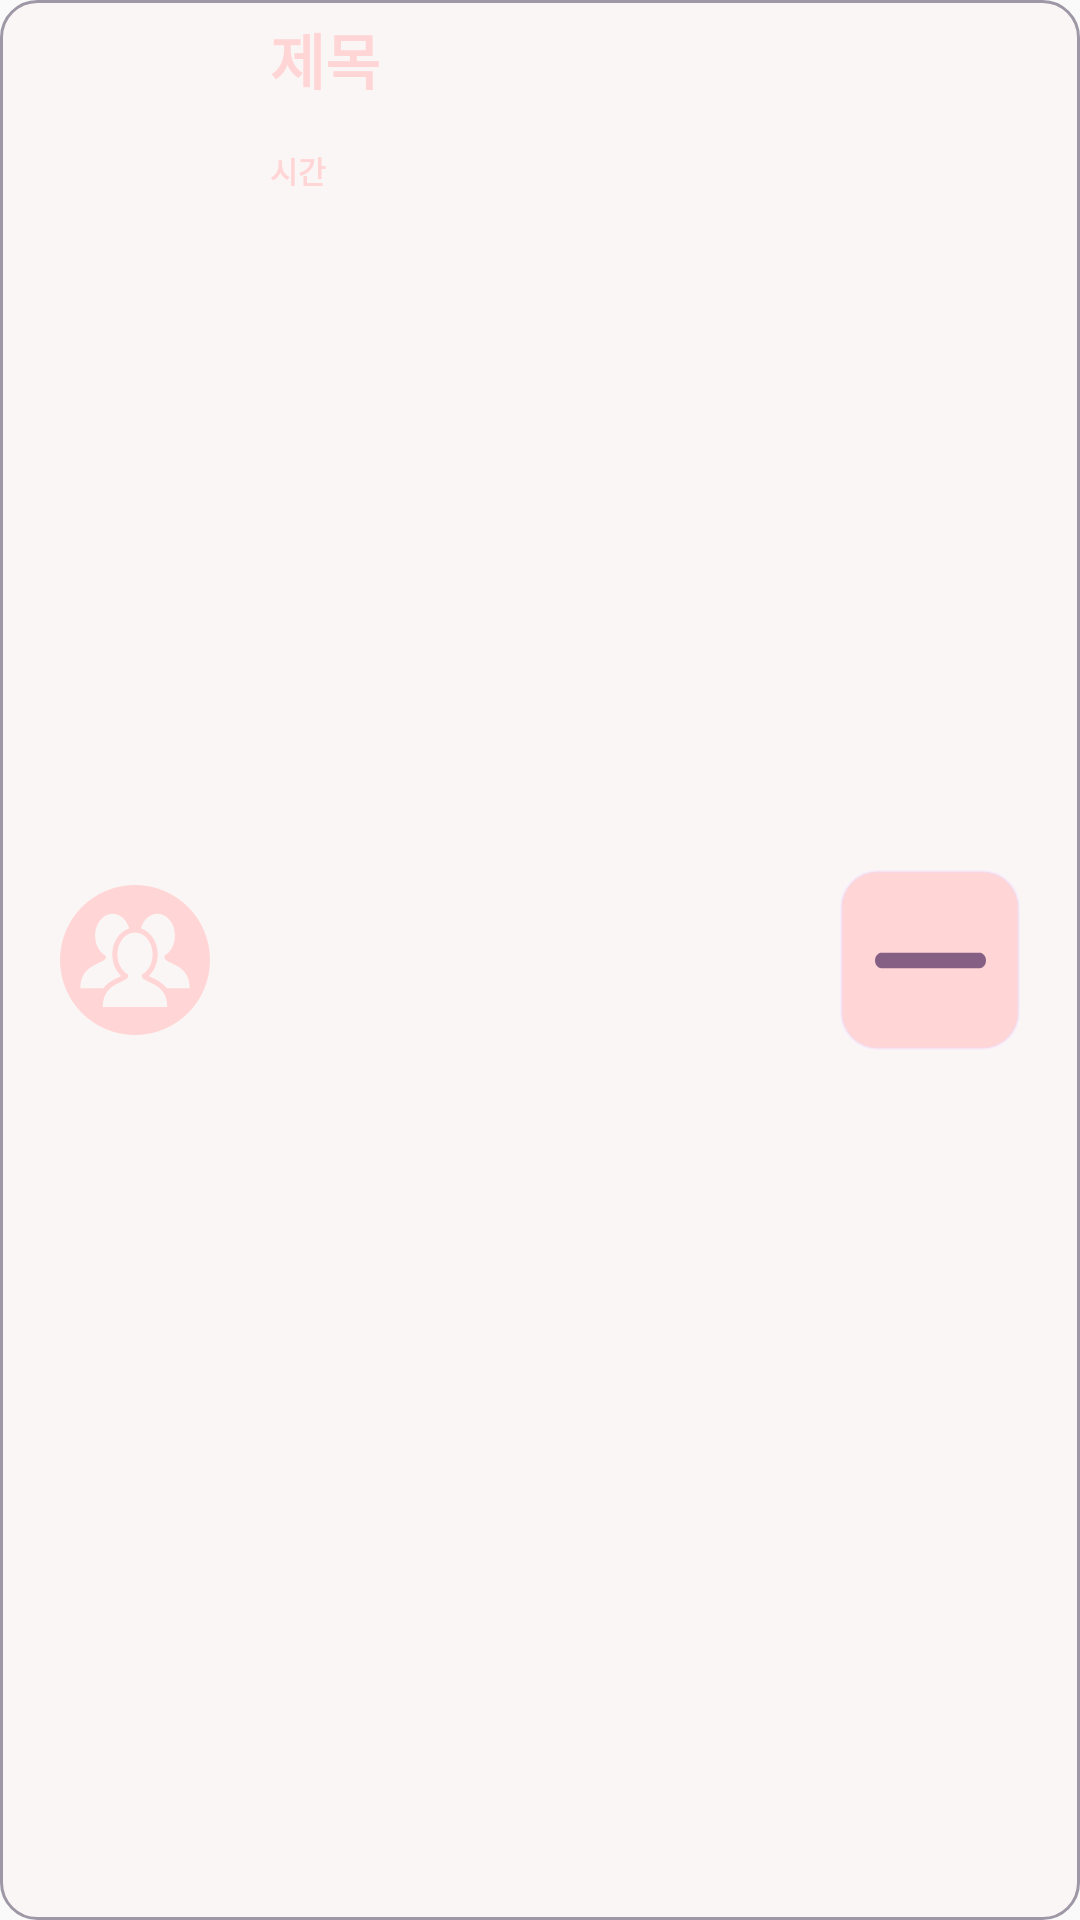

Screen size 1080×1920. Icon name, then its box in pixels as (x1, y1, x2, y2):
minus: (842, 872, 1018, 1048)
